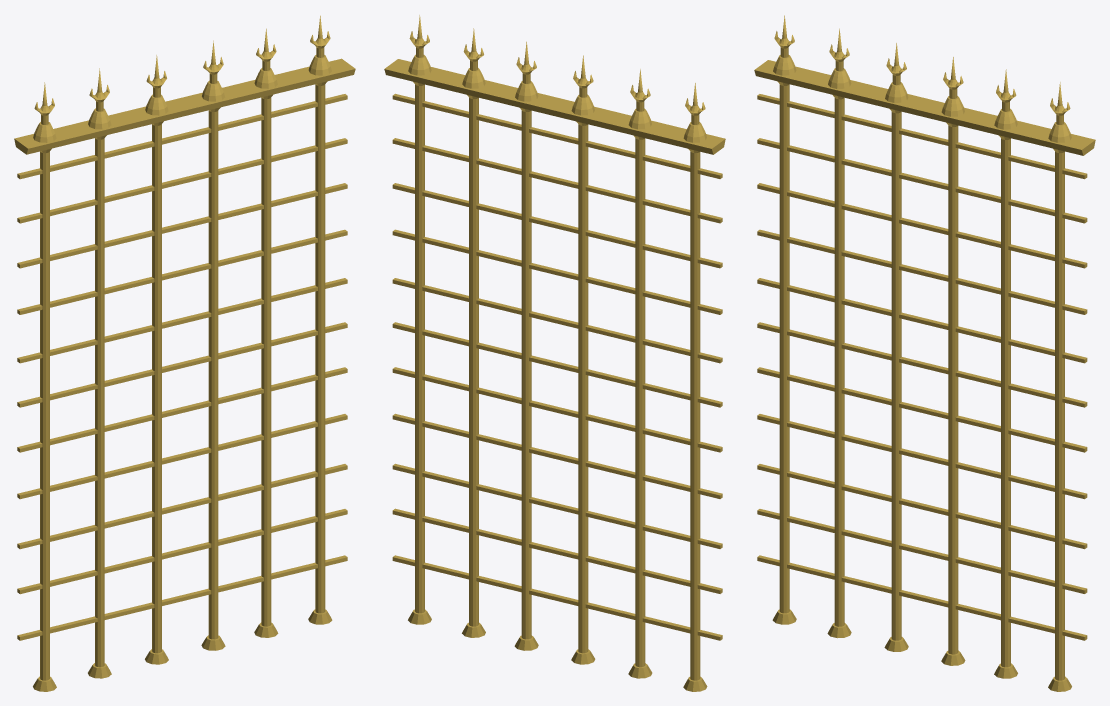
File: RejasDoradas.fbx
3 views of the same model, side by side, from view 1: azimuth 30°, elevation 25°; view 2: azimuth 150°, elevation 25°; view 3: azimuth 330°, elevation 25° (orthographic).
Parts seen in each view (by area): view 1: RejasDoradas; view 2: RejasDoradas; view 3: RejasDoradas.
Boxes of the visible parts, box(x1,y1,x2,y2) form: RejasDoradas: box(14, 15, 355, 691); RejasDoradas: box(384, 15, 725, 691); RejasDoradas: box(754, 15, 1095, 691).
Bounding box in the file's own units: 306 × 536 × 22.42.
